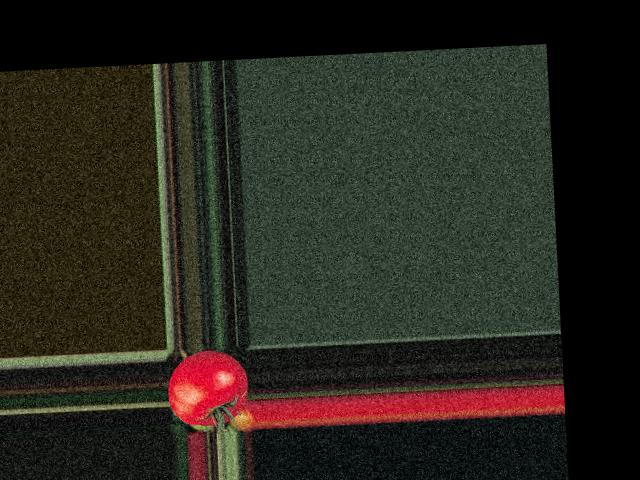tomato: (166, 348, 248, 427)
